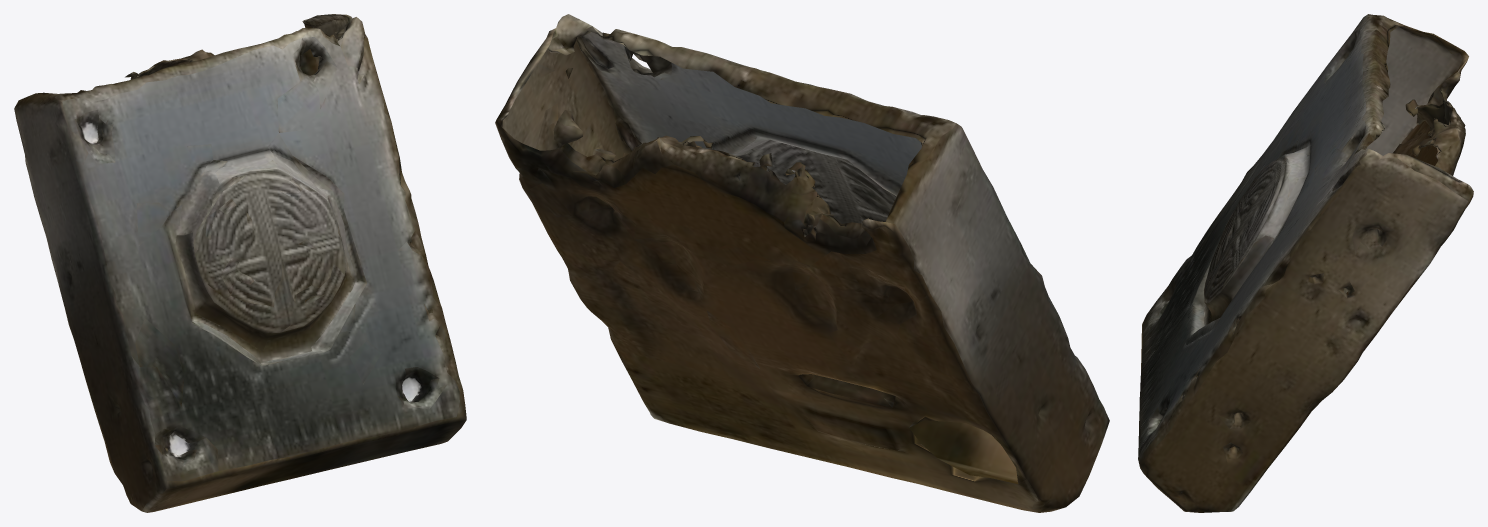
File: rf_kinetic_glyph.glb
3 views of the same model, side by side, from view 1: azimuth 30°, elevation 25°; view 2: azimuth 150°, elevation 25°; view 3: azimuth 270°, elevation 25° (orthographic). The views are drawn at different scales.
Visible parts, largest first — view 1: geometry_0; view 2: geometry_0; view 3: geometry_0.
Part boxes in pixels (x1=…): geometry_0: x1=14, y1=14, x2=466, y2=512; geometry_0: x1=495, y1=14, x2=1109, y2=512; geometry_0: x1=1138, y1=14, x2=1473, y2=512.
Bounding box in the file's own units: 0.904 × 0.9962 × 0.8341.
Materials: 1 (1 with a texture image).
